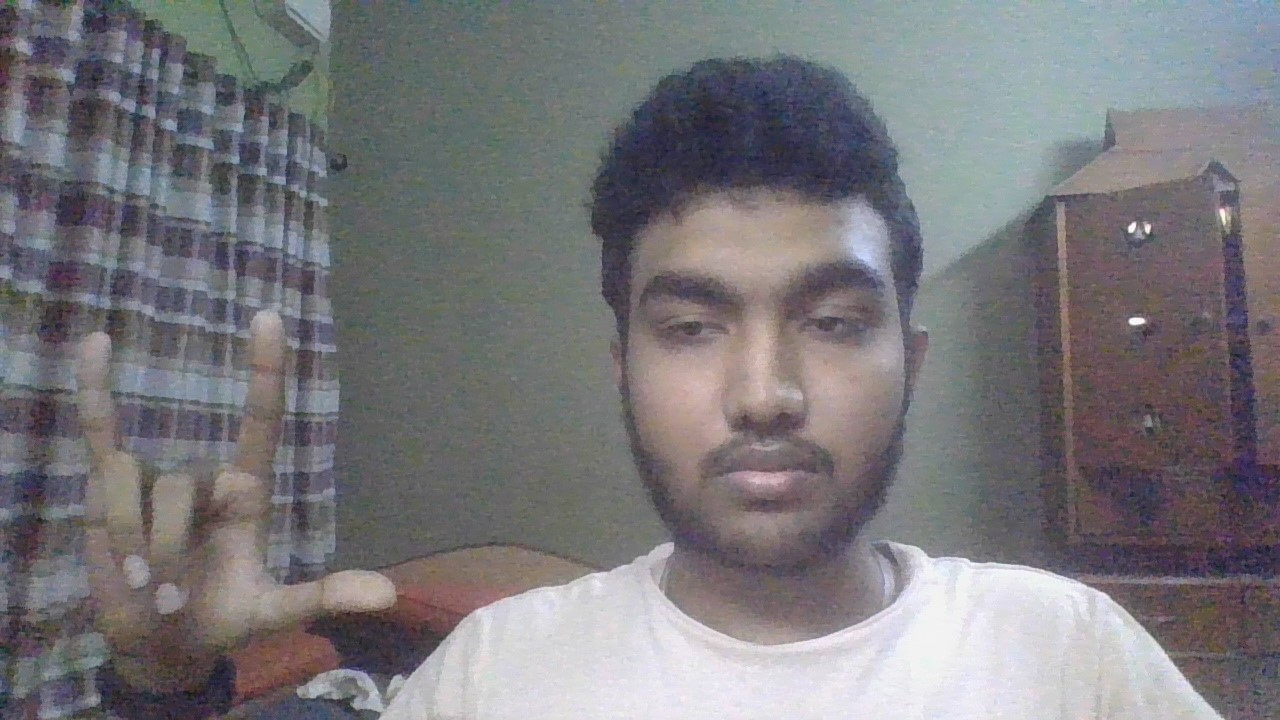I Love You: (60, 288, 404, 687)
